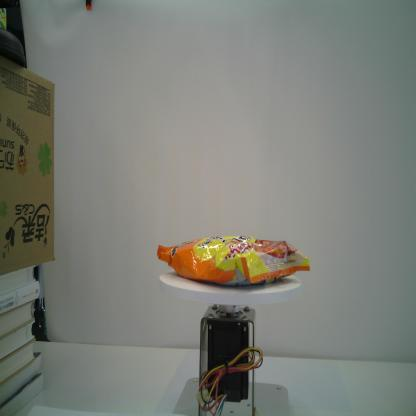Instant Noodles: (157, 234, 311, 287)
